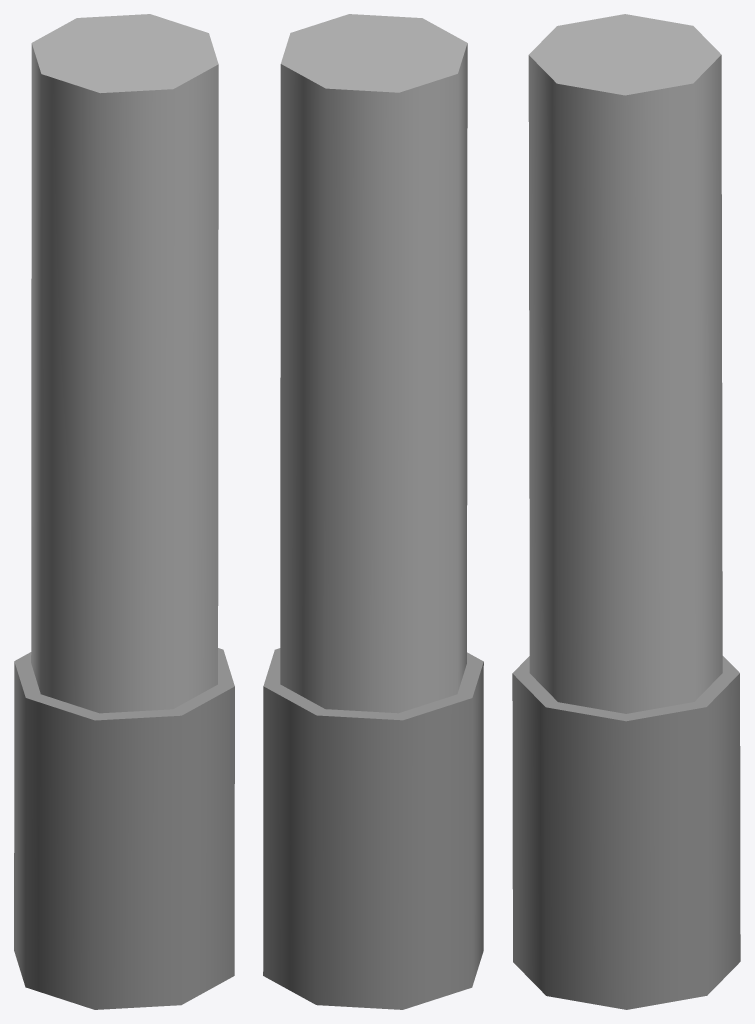
File: space_station_025.fbx
3 views of the same model, side by side, from view 1: azimuth 30°, elevation 25°; view 2: azimuth 150°, elevation 25°; view 3: azimuth 270°, elevation 25° (orthographic).
Visible parts, largest first — view 1: space_station_025; view 2: space_station_025; view 3: space_station_025.
Part boxes in pixels (left/top/right/bottom): space_station_025: left=14, top=14, right=234, bottom=1009; space_station_025: left=263, top=14, right=483, bottom=1009; space_station_025: left=512, top=14, right=740, bottom=1009.
Size of the model in its own units: 393 by 394 by 1727.
